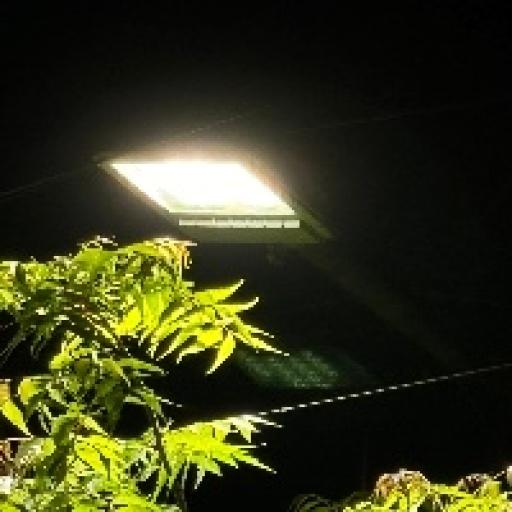Working: (86, 128, 338, 266)
